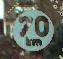Speed limit: (5, 1, 58, 53)
